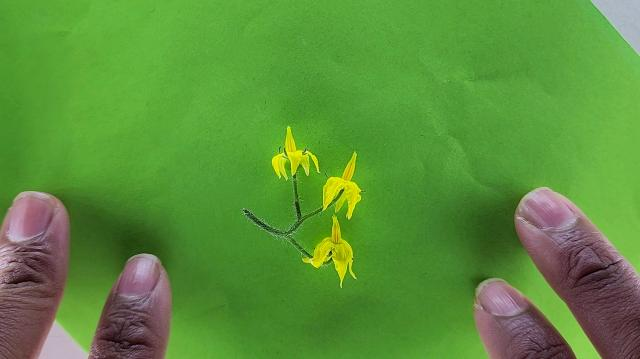Anthesis: (303, 214, 357, 292), (321, 151, 363, 221), (271, 125, 321, 183), (271, 148, 292, 182)
